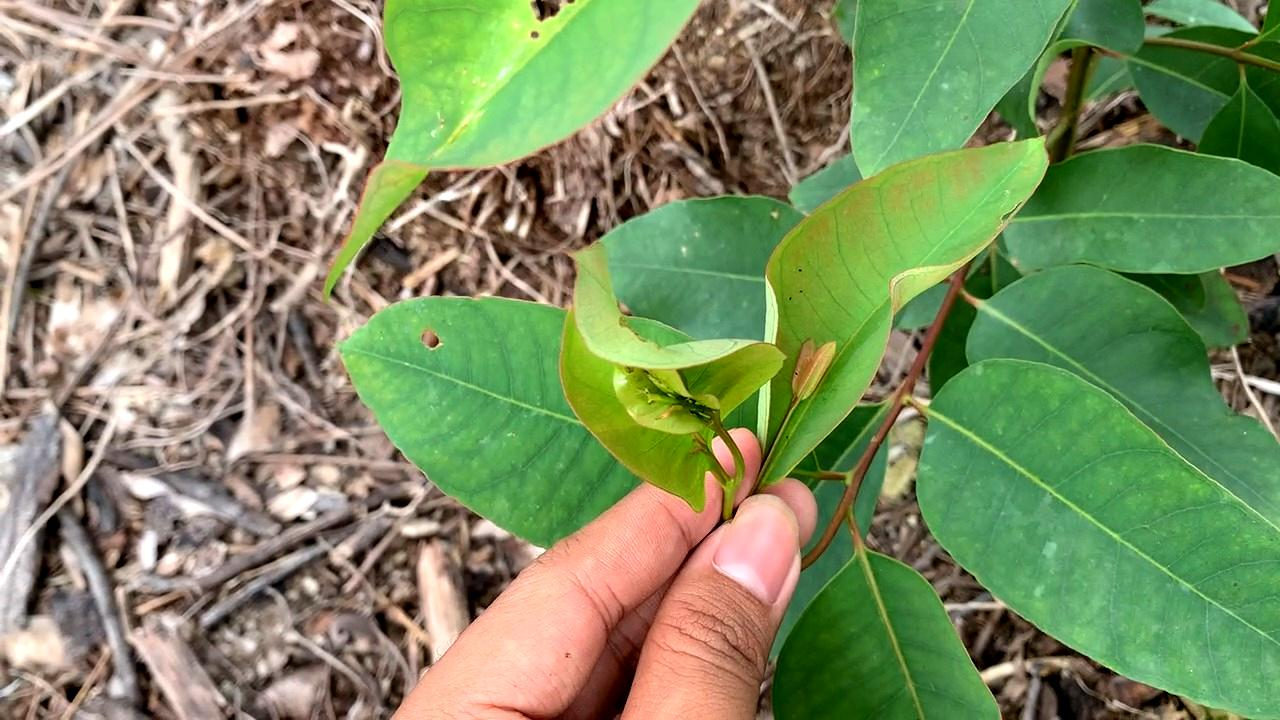Leaf Roller - Leaf: (556, 245, 780, 510)
